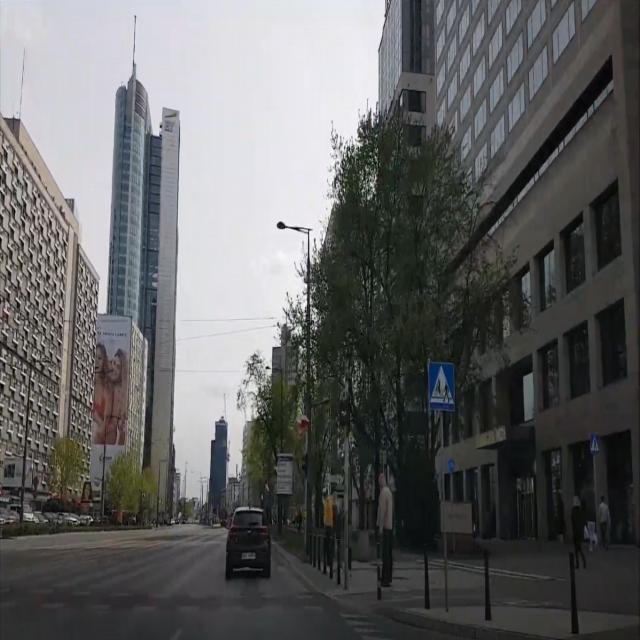Przejscie dla pieszych: (590, 433, 600, 455)
